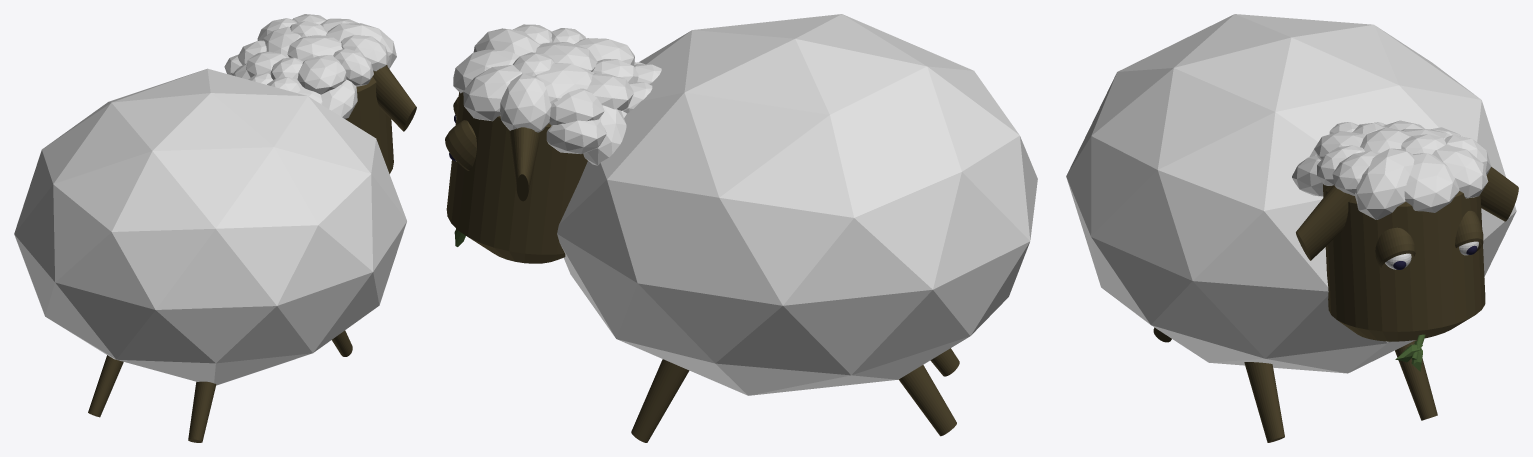
File: moutonGwen3.glb
3 renders of one model, left to right at view 1: azimuth 30°, elevation 25°; view 2: azimuth 150°, elevation 25°; view 3: azimuth 270°, elevation 25°, orthographic. The views are drawn at different scales.
Visible parts, largest first — view 1: Icosphere, Cylinder, Cylinder.001, Icosphere.011, Cylinder.007, Icosphere.009, Icosphere.003, Cylinder.006, Icosphere.007, Icosphere.002, Icosphere.017, Icosphere.016 (+4 smaller); view 2: Icosphere, Cylinder, Icosphere.001, Cylinder.005, Icosphere.005, Cylinder.006, Icosphere.014, Cylinder.002, Icosphere.006, Icosphere.016, Icosphere.004, Icosphere.010 (+7 smaller); view 3: Icosphere, Cylinder, Icosphere.003, Icosphere.004, Cylinder.001, Cylinder.004, Icosphere.005, Cylinder.002, Cylinder.005, Icosphere.002, Torus, Icosphere.009 (+6 smaller).
Part boxes in pixels (box(x1,y1,x2,y2)): Icosphere: box(14, 68, 406, 385); Cylinder: box(346, 65, 393, 173); Cylinder.001: box(373, 65, 416, 131); Icosphere.011: box(297, 55, 346, 94); Cylinder.007: box(188, 381, 216, 442); Icosphere.009: box(287, 35, 342, 61); Icosphere.003: box(326, 23, 396, 68); Cylinder.006: box(88, 355, 123, 417); Icosphere.007: box(333, 48, 373, 86); Icosphere.002: box(341, 35, 389, 71); Icosphere.017: box(321, 79, 357, 119); Icosphere.016: box(262, 26, 301, 57); Icosphere: box(557, 14, 1037, 395); Cylinder: box(446, 92, 587, 263); Icosphere.001: box(500, 73, 551, 132); Cylinder.005: box(631, 359, 689, 442); Icosphere.005: box(463, 64, 521, 121); Cylinder.006: box(898, 365, 956, 436); Icosphere.014: box(546, 119, 606, 153); Cylinder.002: box(509, 127, 539, 201); Icosphere.006: box(549, 88, 604, 125); Icosphere.016: box(535, 63, 593, 104); Icosphere.004: box(453, 49, 519, 93); Icosphere.010: box(587, 73, 633, 110); Icosphere: box(1066, 14, 1516, 373); Cylinder: box(1323, 184, 1485, 341); Icosphere.003: box(1355, 148, 1414, 219); Icosphere.004: box(1404, 153, 1459, 212); Cylinder.001: box(1296, 184, 1353, 260); Cylinder.004: box(1244, 362, 1284, 442); Icosphere.005: box(1432, 144, 1488, 198); Cylinder.002: box(1480, 167, 1518, 221); Cylinder.005: box(1395, 340, 1437, 420); Icosphere.002: box(1332, 151, 1380, 195); Torus: box(1375, 227, 1415, 267); Icosphere.009: box(1360, 127, 1410, 152).
Size of the model in its own units: 2.95 by 2.09 by 2.48.
